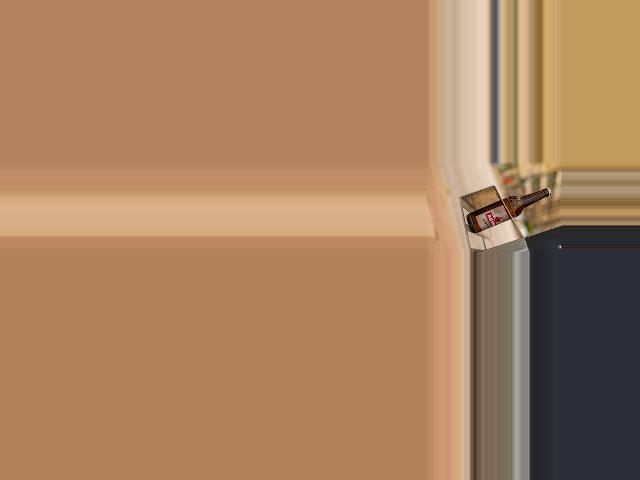beer: (466, 187, 551, 234)
